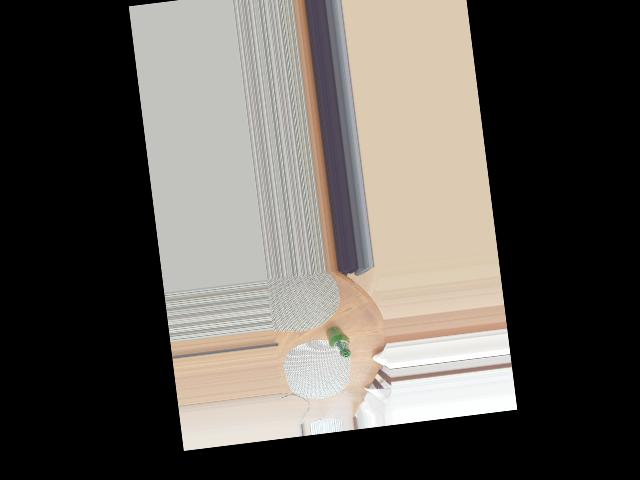beer: (326, 324, 351, 359)
